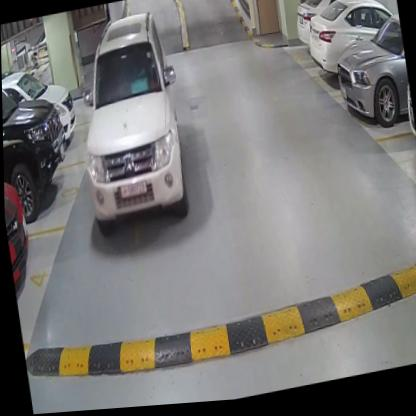np: (117, 179, 146, 202)
